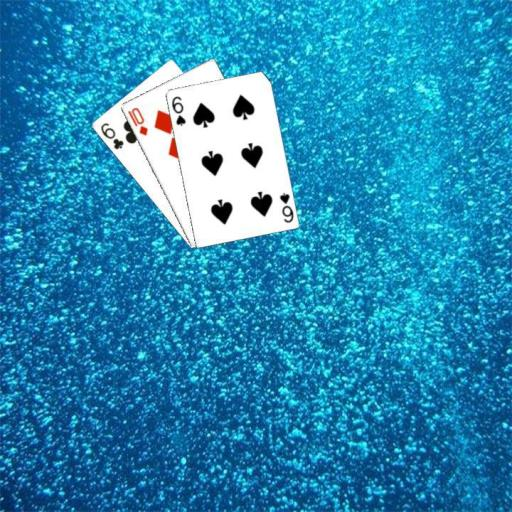10D: (125, 104, 149, 137)
6C: (97, 119, 125, 151)
6S: (276, 189, 294, 224), (169, 93, 187, 127)
